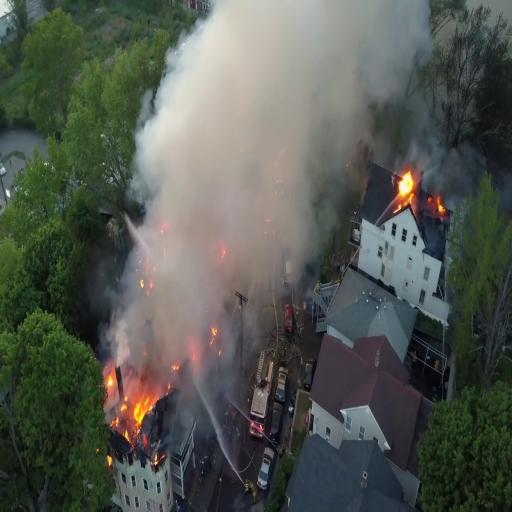fire: (130, 375, 155, 417), (400, 162, 415, 192)
smoke: (190, 8, 380, 131), (169, 156, 237, 283)
